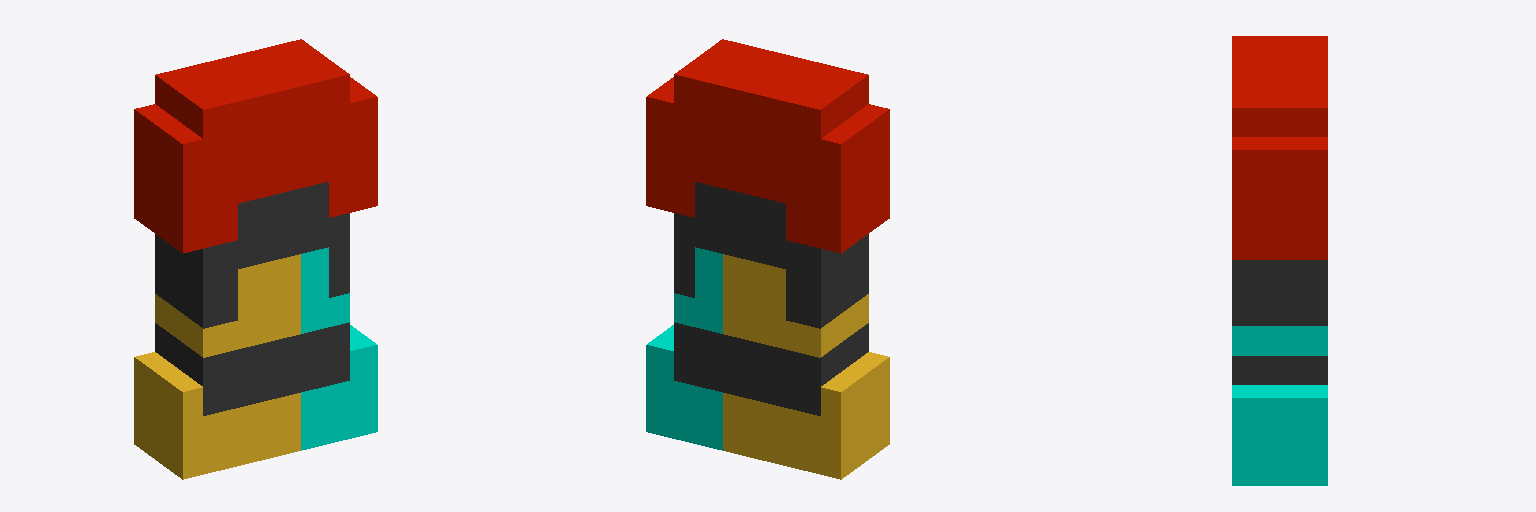
3 views of the same model, side by side, from view 1: azimuth 30°, elevation 25°; view 2: azimuth 150°, elevation 25°; view 3: azimuth 270°, elevation 25° (orthographic).
Bounding box in the file's own units: 28 × 50 × 12.
Materials: 1 (1 with a texture image).